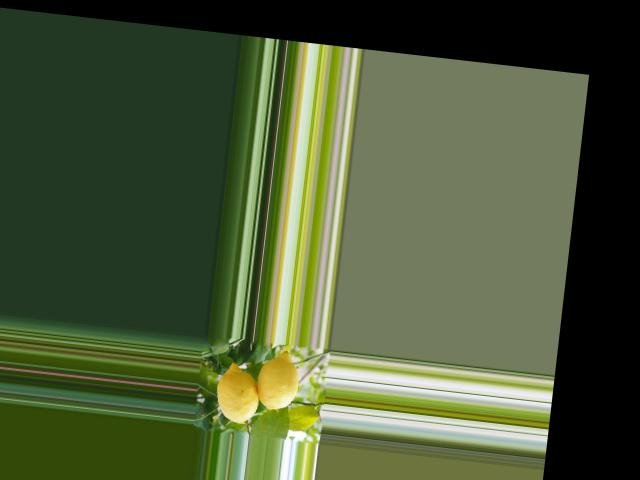lemon: (251, 349, 305, 416)
